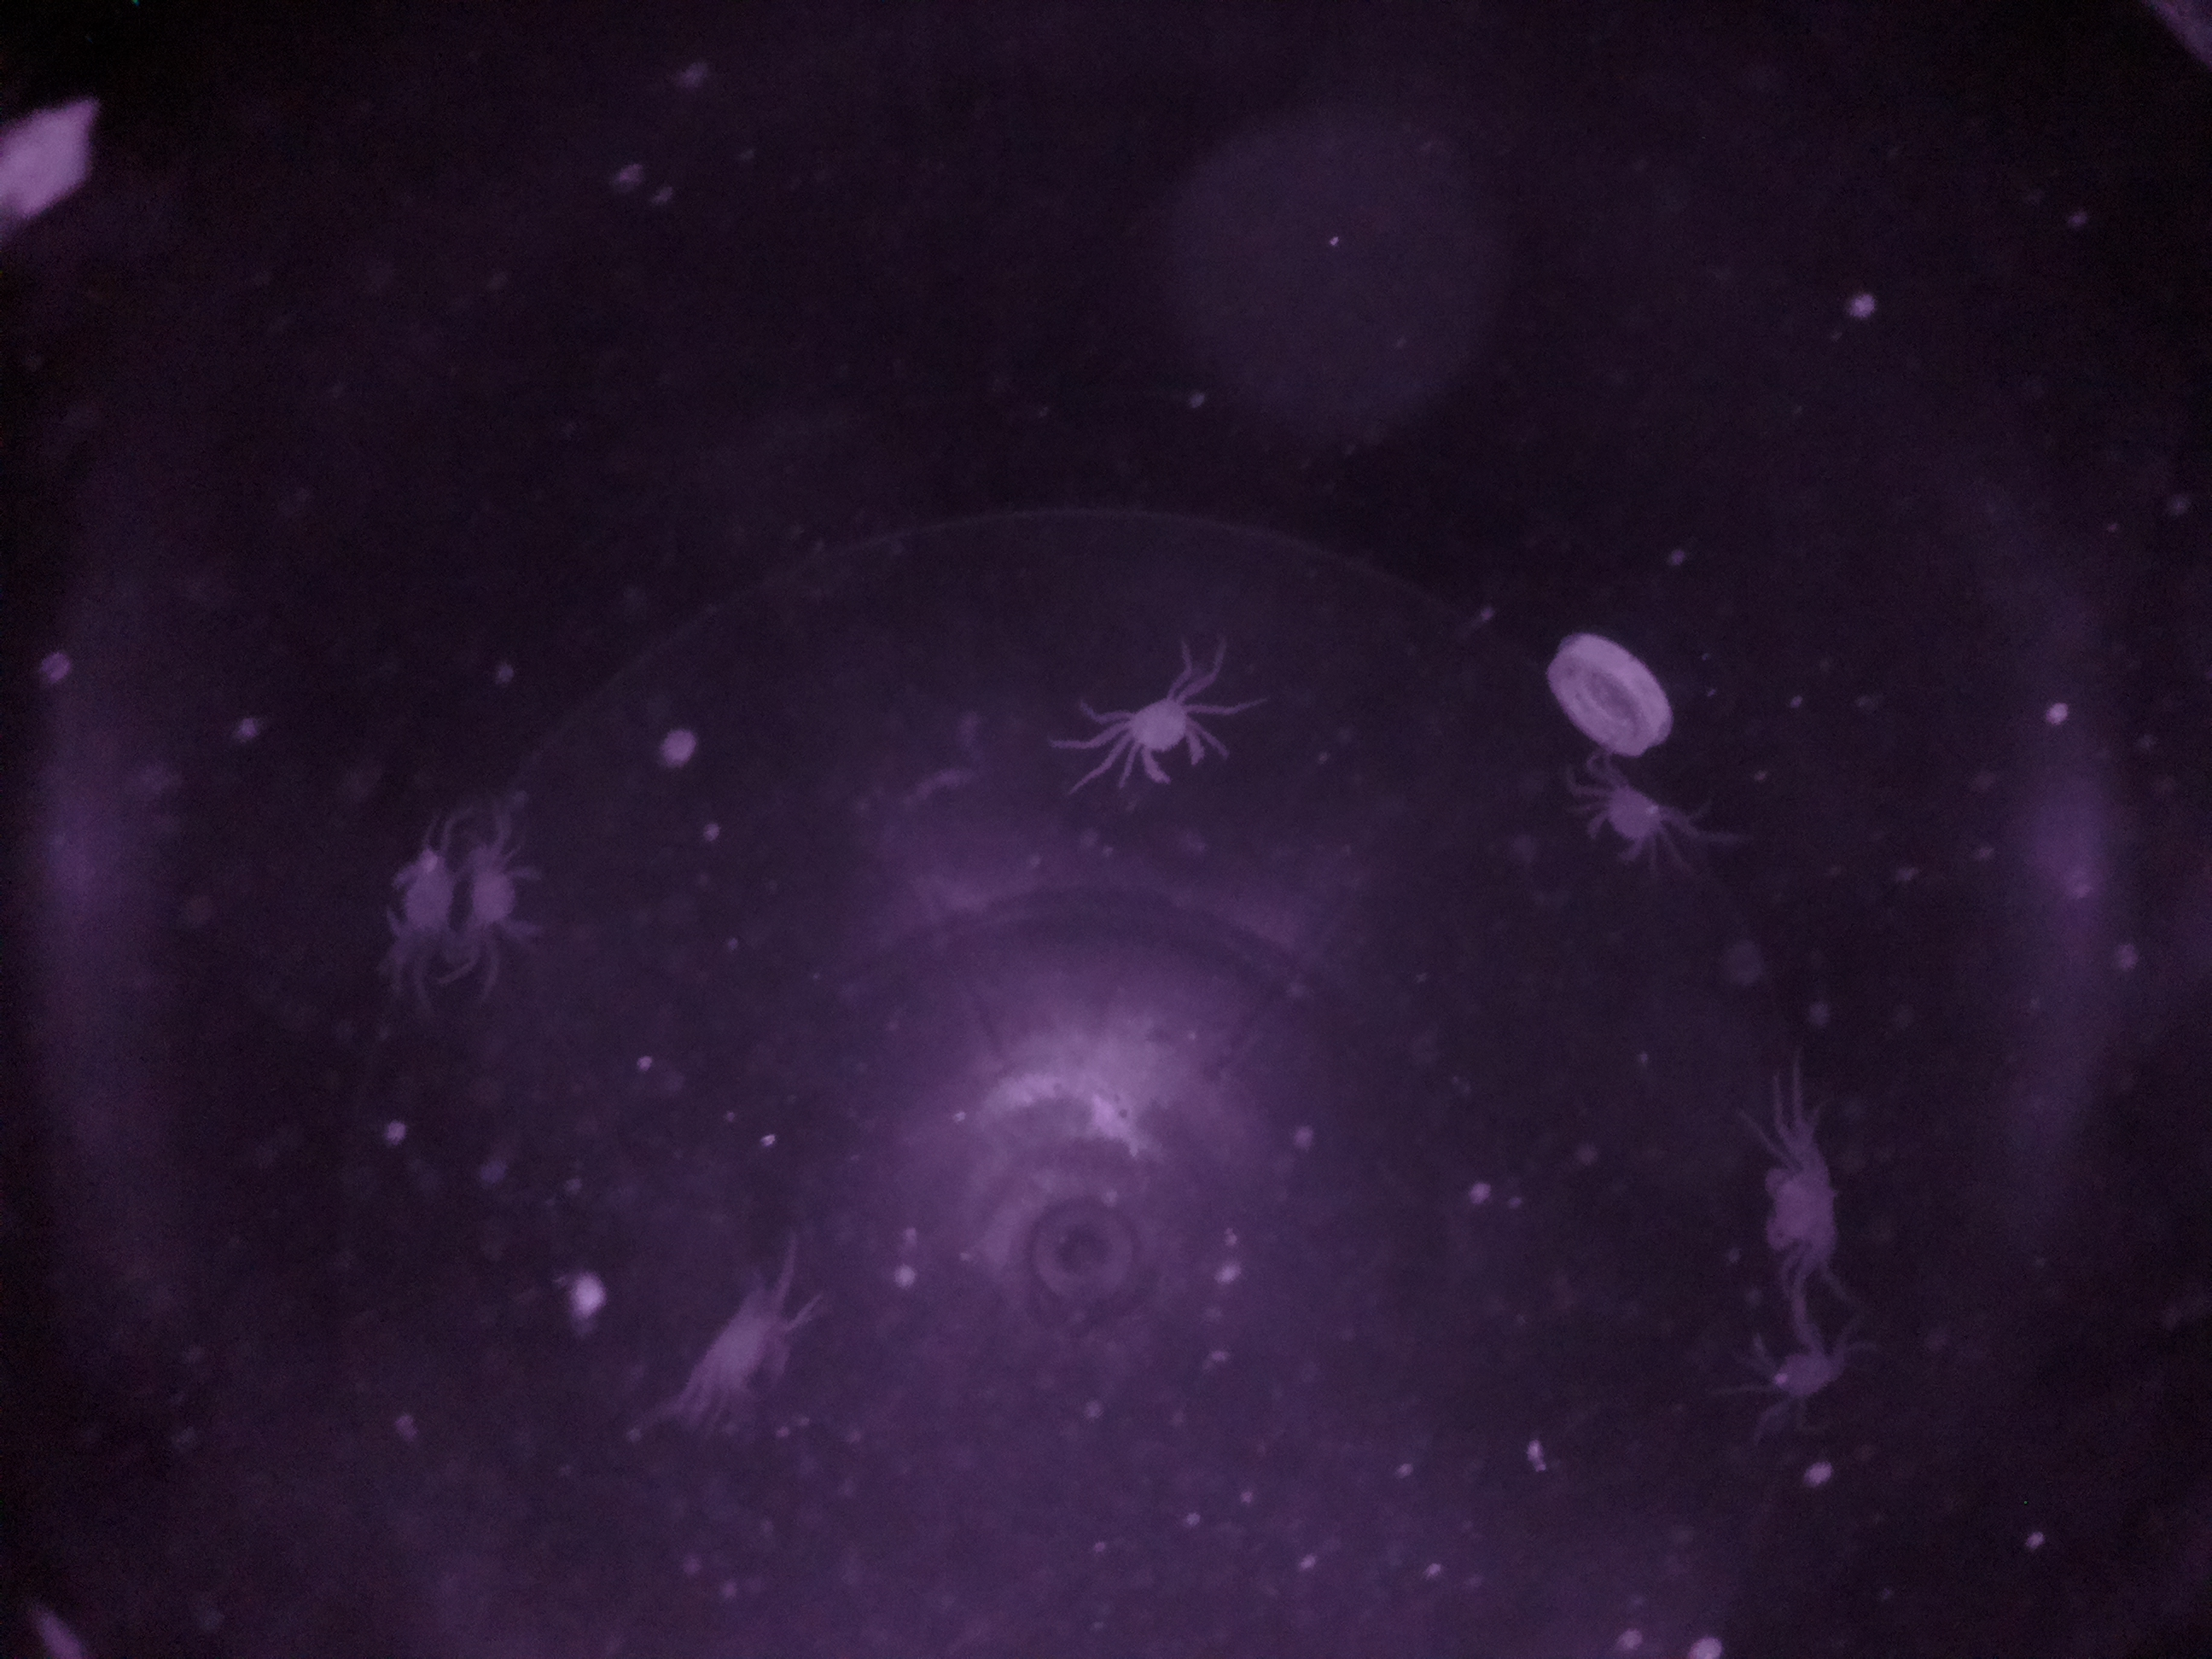Crab: (1106, 676, 1230, 807), (1742, 1129, 1850, 1277), (1569, 769, 1684, 882)
